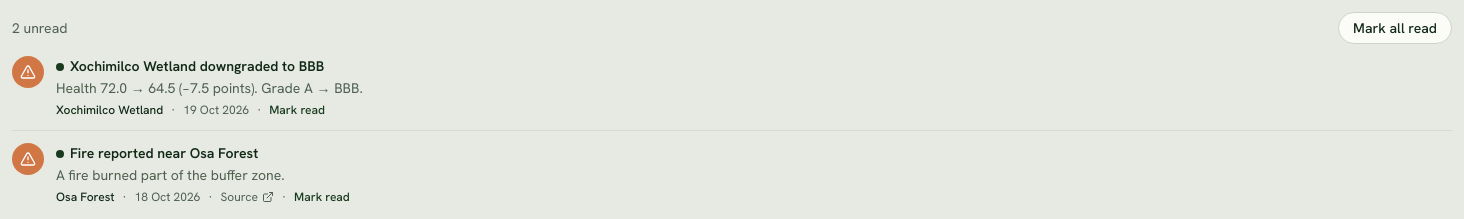
AlertsList › marks everything read
What coordinates should you click on to do the following:
click the button "Mark all read"
I would click on:
 (1395, 28)
Its box is [1338,12,1452,44].
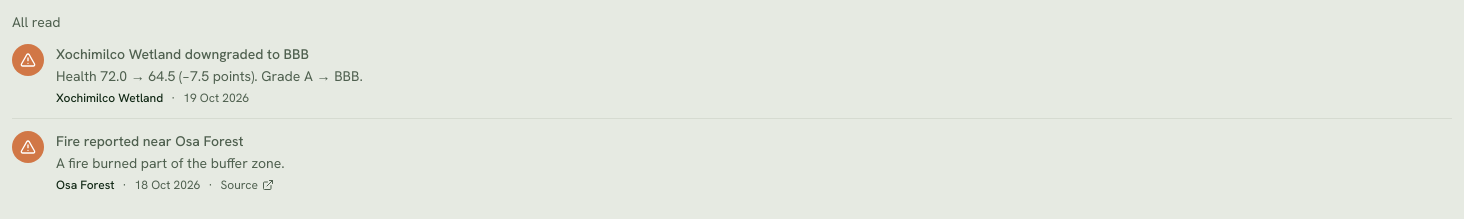
Result: the text "All read" is shown at [12,12,60,32]
Result: the button "Mark all read" is gone
